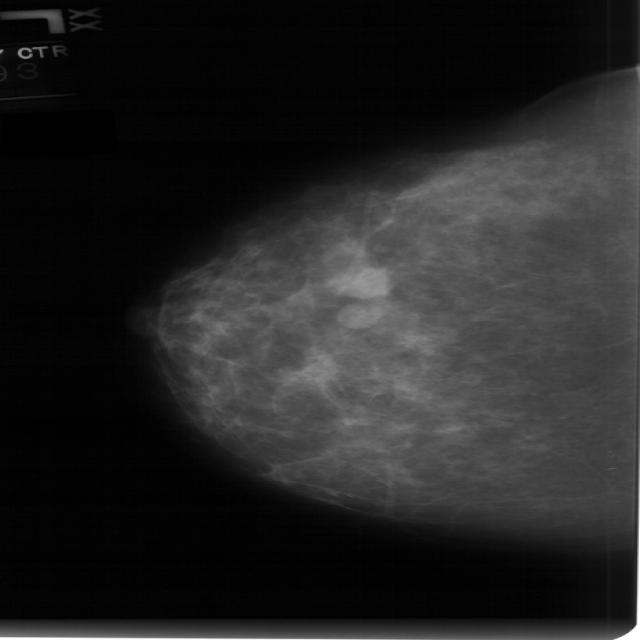tumour: (333, 301, 381, 328)
